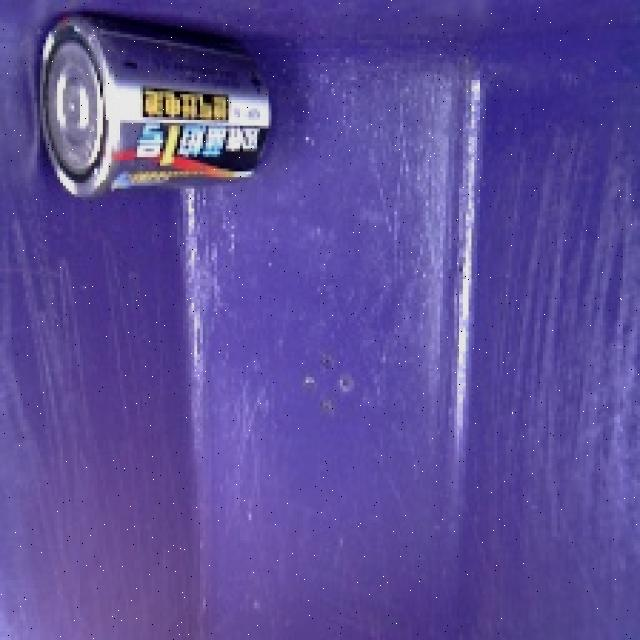battery: (29, 8, 283, 205)
